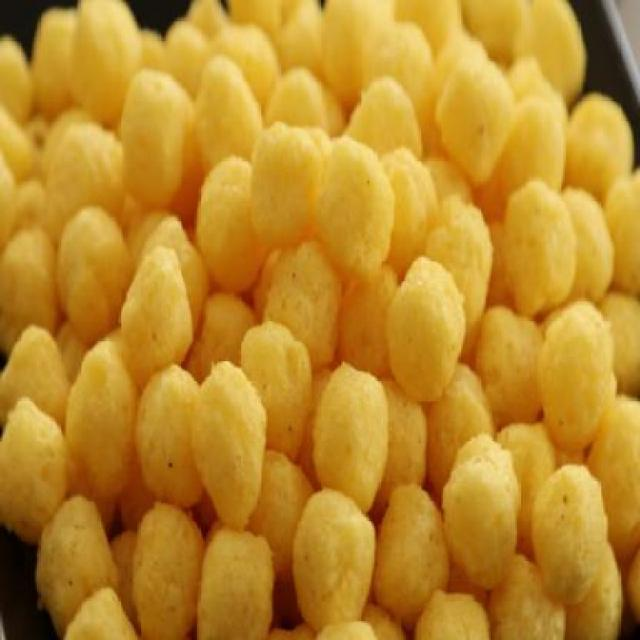Chips packaged: (44, 53, 624, 627), (186, 350, 274, 536), (529, 284, 623, 458), (306, 128, 405, 288), (312, 354, 398, 524), (440, 426, 531, 586), (291, 486, 378, 628), (132, 358, 212, 509), (119, 242, 207, 376), (387, 258, 467, 404), (528, 449, 604, 594), (132, 502, 205, 640)
